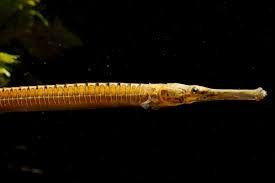Long-Snouted Pipefish: (0, 75, 268, 122)
